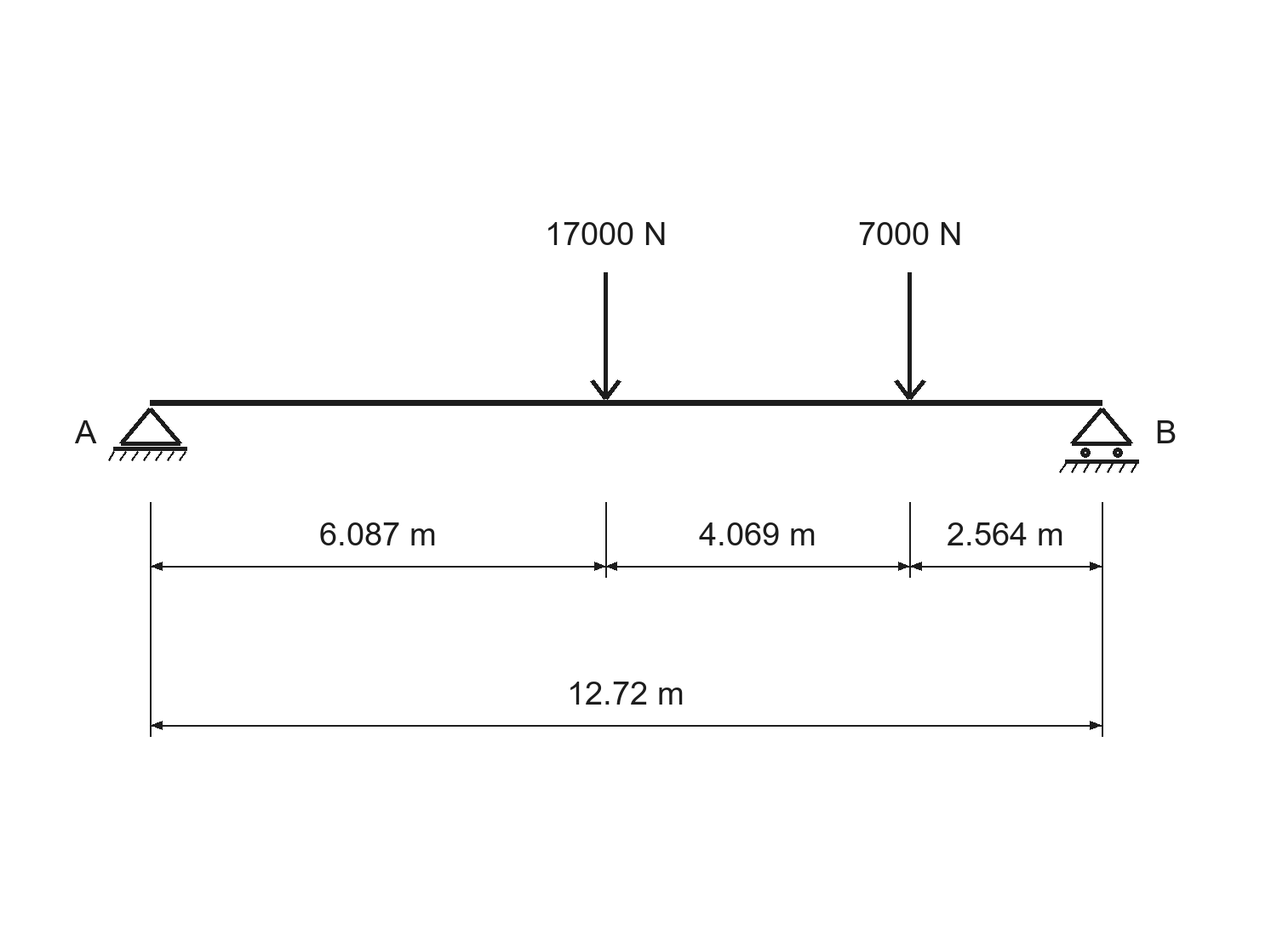pin_support: (108, 408, 187, 461)
point_load: (894, 272, 926, 400), (590, 272, 621, 400)
roller_support: (1059, 408, 1139, 473)
